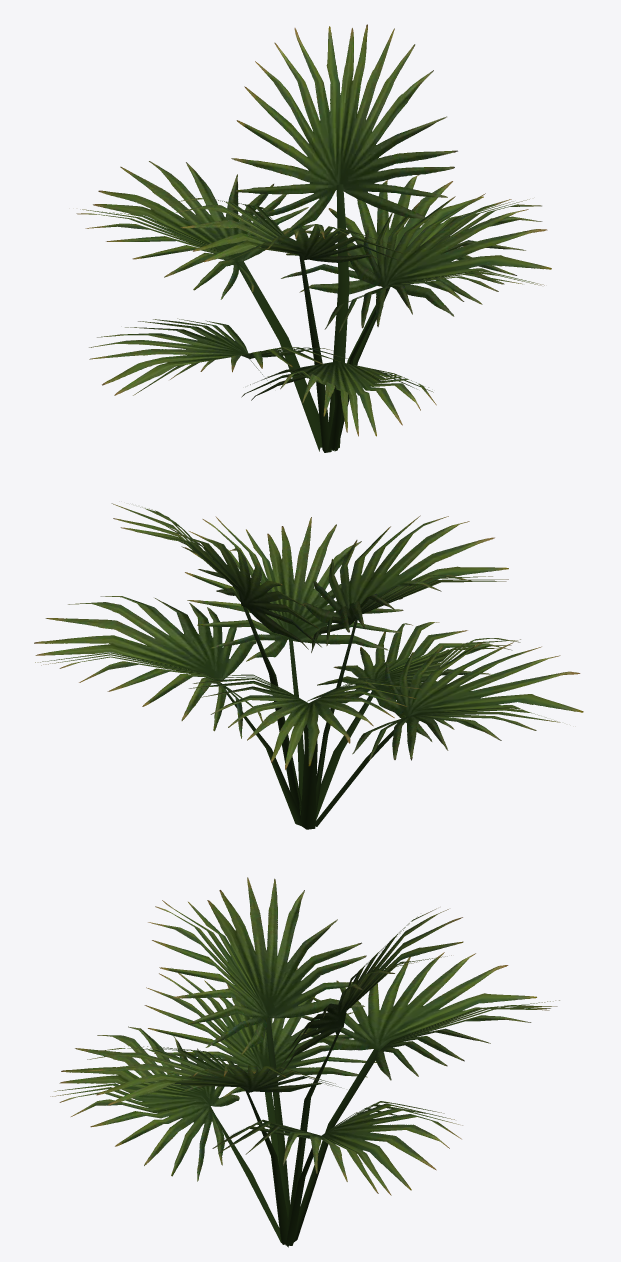
The picture shows the model from 3 angles, top to bottom: view 1: azimuth 30°, elevation 25°; view 2: azimuth 150°, elevation 25°; view 3: azimuth 270°, elevation 25°; orthographic projection. The views are drawn at different scales.
Parts seen in each view (by area): view 1: body0_model0_lod0_mesh0; view 2: body0_model0_lod0_mesh0; view 3: body0_model0_lod0_mesh0.
Boxes of the visible parts, x1=… form: body0_model0_lod0_mesh0: x1=76, y1=24, x2=551, y2=452; body0_model0_lod0_mesh0: x1=34, y1=503, x2=583, y2=829; body0_model0_lod0_mesh0: x1=50, y1=877, x2=559, y2=1247.
Bounding box in the file's own units: 318 × 197 × 291.
1 material, 1 textured.
